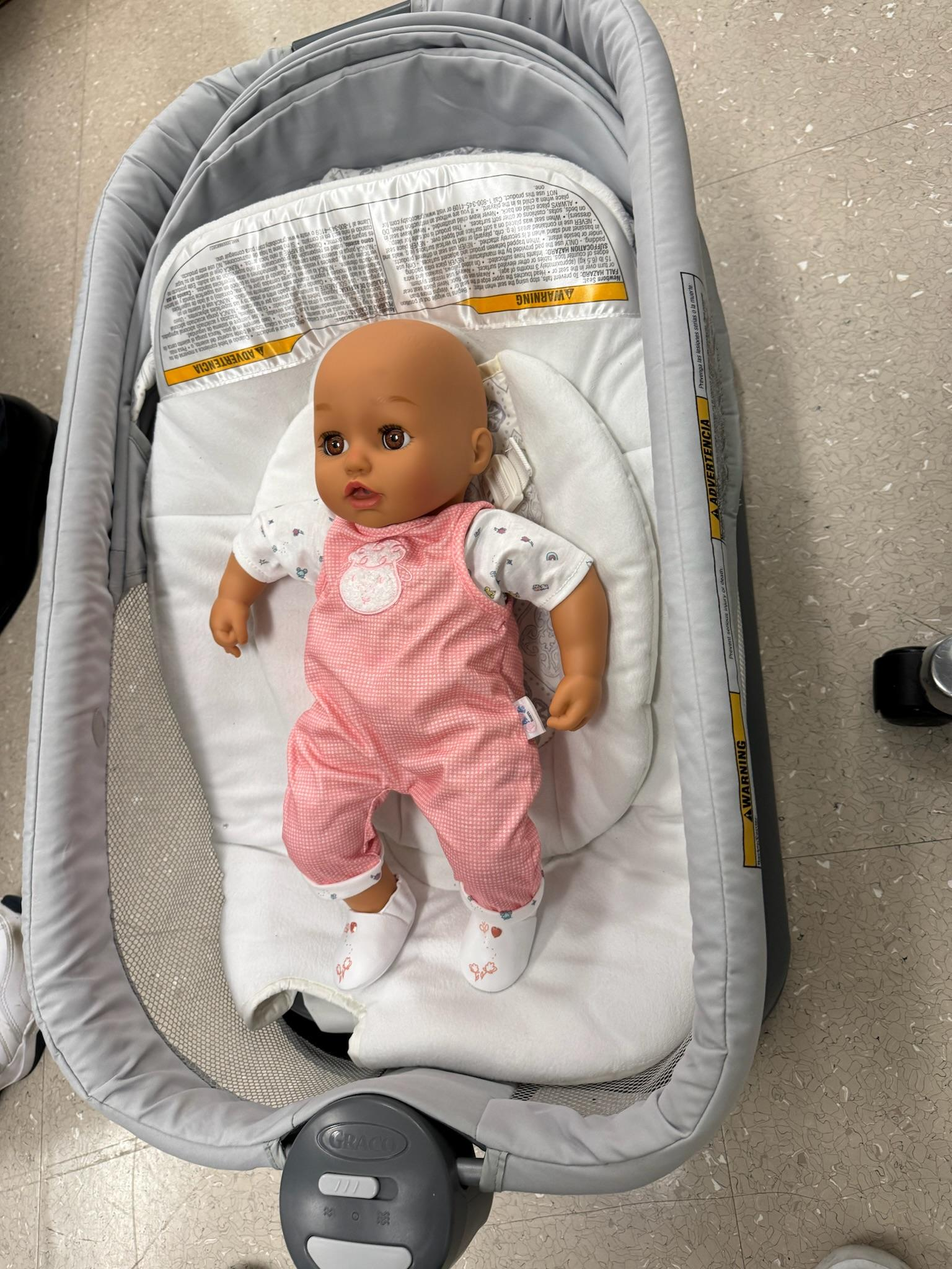baby: (189, 303, 635, 1015)
